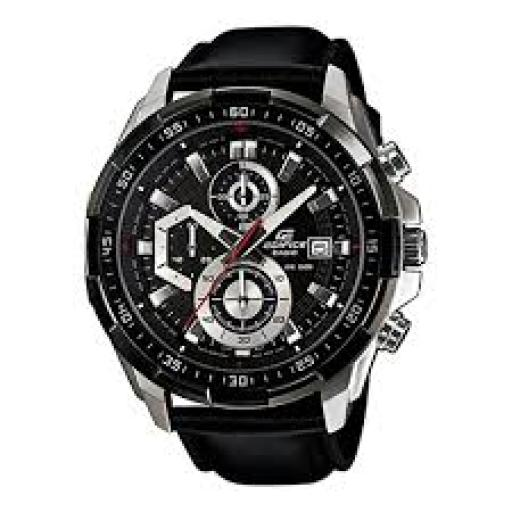KolSaati: (88, 20, 438, 490)
